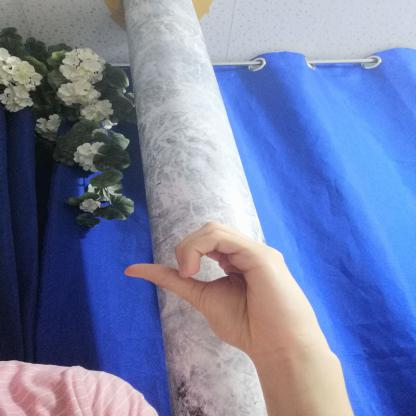WAW: (104, 212, 340, 368)
